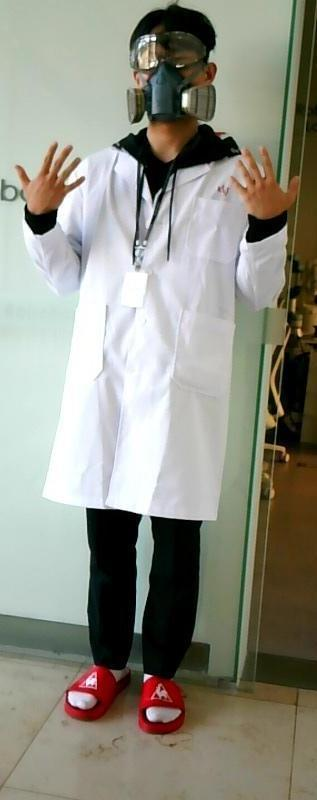lab_coat: (70, 144, 234, 505)
